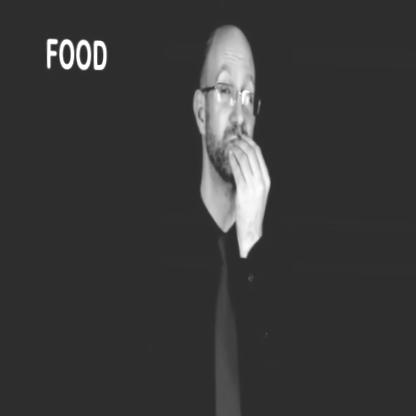Food: (148, 13, 303, 416)
